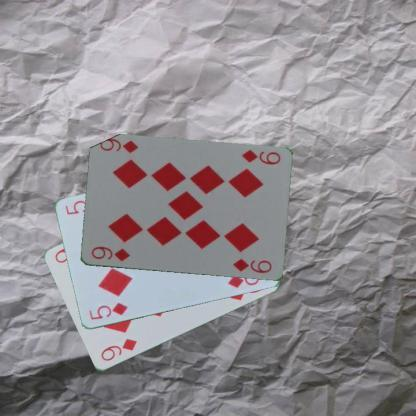5d: (86, 300, 129, 322)
9d: (98, 336, 138, 363), (238, 148, 282, 166), (89, 244, 130, 263)
